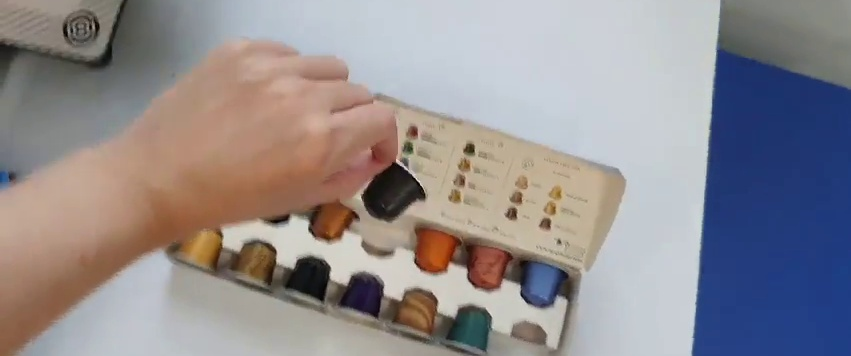capsule_4: (362, 152, 428, 225)
